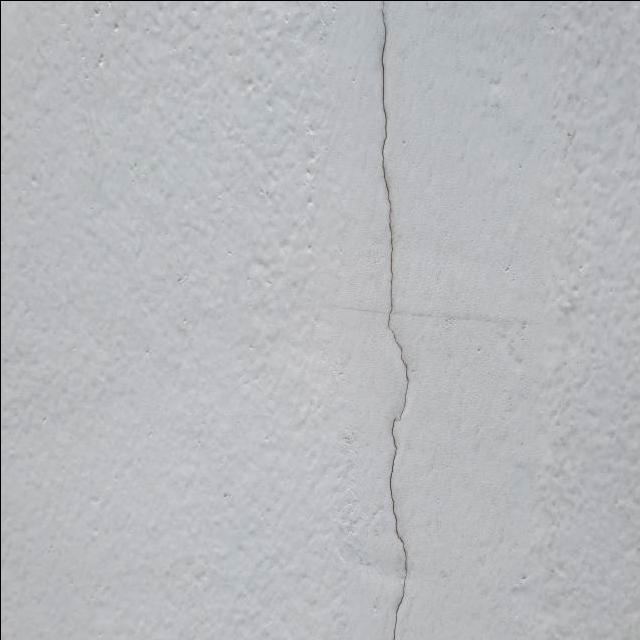SurfaceCrack: (323, 0, 461, 640)
